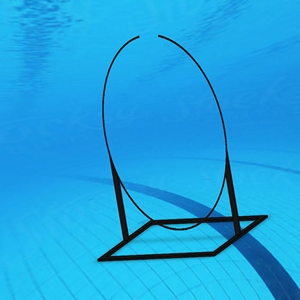circle: (94, 32, 270, 262)
